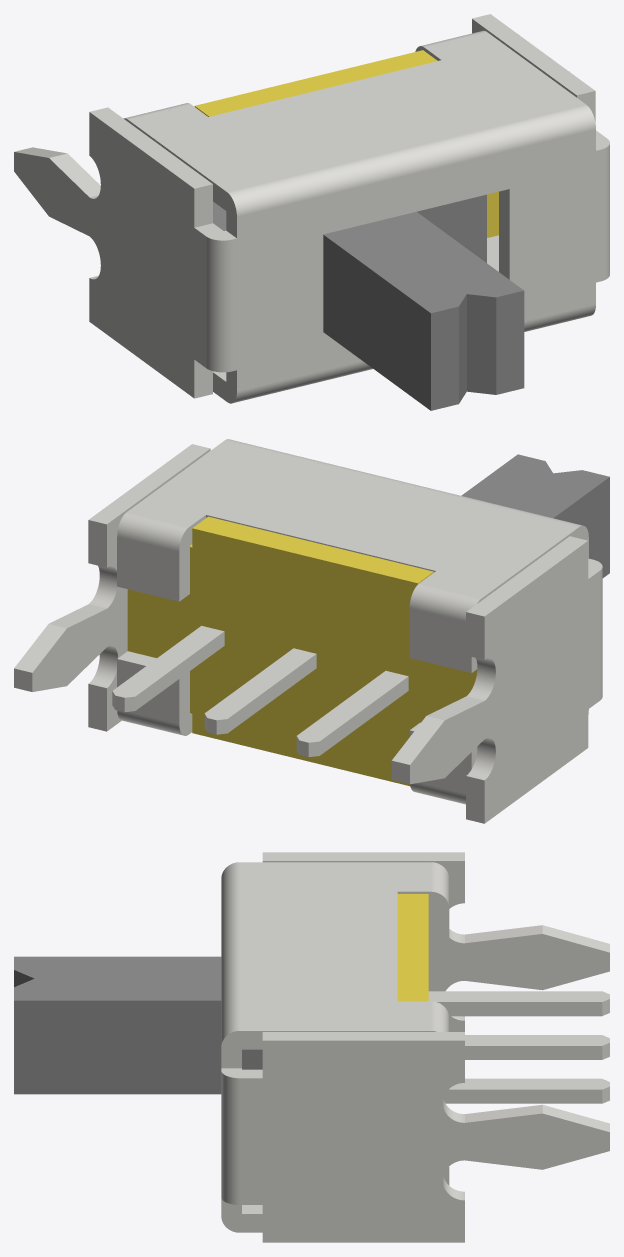
Rendered from SW_Slide_SPDT_Straight_CK_OS102011MS2Q.glb.
3 views of the same model, one above another, from view 1: azimuth 30°, elevation 25°; view 2: azimuth 150°, elevation 25°; view 3: azimuth 270°, elevation 25° (orthographic). The views are drawn at different scales.
Parts seen in each view (by area): view 1: Shape_IndexedFaceSet.007, Shape_IndexedFaceSet.079, Shape_IndexedFaceSet.031, Shape_IndexedFaceSet.217, Shape_IndexedFaceSet.041, Shape_IndexedFaceSet.204, Shape_IndexedFaceSet.034, Shape_IndexedFaceSet.072, Shape_IndexedFaceSet.002, Shape_IndexedFaceSet.164, Shape_IndexedFaceSet.069, Shape_IndexedFaceSet.214 (+18 smaller); view 2: Shape_IndexedFaceSet.174, Shape_IndexedFaceSet.079, Shape_IndexedFaceSet.031, Shape_IndexedFaceSet.204, Shape_IndexedFaceSet.072, Shape_IndexedFaceSet.034, Shape_IndexedFaceSet.164, Shape_IndexedFaceSet.069, Shape_IndexedFaceSet.099, Shape_IndexedFaceSet.159, Shape_IndexedFaceSet.160, Shape_IndexedFaceSet.217 (+34 smaller); view 3: Shape_IndexedFaceSet.079, Shape_IndexedFaceSet.133, Shape_IndexedFaceSet.212, Shape_IndexedFaceSet.204, Shape_IndexedFaceSet.136, Shape_IndexedFaceSet.134, Shape_IndexedFaceSet.073, Shape_IndexedFaceSet.161, Shape_IndexedFaceSet.164, Shape_IndexedFaceSet.041, Shape_IndexedFaceSet.093, Shape_IndexedFaceSet.044 (+20 smaller).
Part boxes in pixels (left/top/right/bottom): Shape_IndexedFaceSet.007: left=234, top=131, right=598, bottom=389; Shape_IndexedFaceSet.079: left=146, top=45, right=584, bottom=191; Shape_IndexedFaceSet.031: left=89, top=151, right=194, bottom=358; Shape_IndexedFaceSet.217: left=323, top=235, right=430, bottom=410; Shape_IndexedFaceSet.041: left=227, top=104, right=595, bottom=216; Shape_IndexedFaceSet.204: left=323, top=211, right=523, bottom=313; Shape_IndexedFaceSet.034: left=89, top=112, right=194, bottom=227; Shape_IndexedFaceSet.072: left=89, top=283, right=194, bottom=397; Shape_IndexedFaceSet.002: left=206, top=237, right=232, bottom=372; Shape_IndexedFaceSet.164: left=195, top=50, right=437, bottom=116; Shape_IndexedFaceSet.069: left=14, top=152, right=89, bottom=235; Shape_IndexedFaceSet.214: left=467, top=294, right=496, bottom=394; Shape_IndexedFaceSet.174: left=127, top=528, right=477, bottom=786; Shape_IndexedFaceSet.079: left=144, top=441, right=577, bottom=585; Shape_IndexedFaceSet.031: left=484, top=579, right=588, bottom=784; Shape_IndexedFaceSet.204: left=461, top=454, right=609, bottom=518; Shape_IndexedFaceSet.072: left=484, top=709, right=588, bottom=823; Shape_IndexedFaceSet.034: left=484, top=541, right=588, bottom=654; Shape_IndexedFaceSet.164: left=192, top=516, right=433, bottom=583; Shape_IndexedFaceSet.069: left=410, top=701, right=484, bottom=784; Shape_IndexedFaceSet.099: left=32, top=609, right=106, bottom=691; Shape_IndexedFaceSet.159: left=117, top=538, right=179, bottom=601; Shape_IndexedFaceSet.160: left=409, top=610, right=471, bottom=672; Shape_IndexedFaceSet.217: left=554, top=477, right=609, bottom=577; Shape_IndexedFaceSet.079: left=242, top=862, right=397, bottom=1030; Shape_IndexedFaceSet.133: left=262, top=1078, right=464, bottom=1204; Shape_IndexedFaceSet.212: left=14, top=1000, right=247, bottom=1094; Shape_IndexedFaceSet.204: left=14, top=956, right=221, bottom=1000; Shape_IndexedFaceSet.136: left=262, top=1040, right=464, bottom=1078; Shape_IndexedFaceSet.134: left=262, top=1205, right=464, bottom=1242; Shape_IndexedFaceSet.073: left=465, top=934, right=609, bottom=990; Shape_IndexedFaceSet.161: left=465, top=1113, right=609, bottom=1169; Shape_IndexedFaceSet.164: left=397, top=894, right=428, bottom=1001; Shape_IndexedFaceSet.041: left=221, top=862, right=239, bottom=1044; Shape_IndexedFaceSet.093: left=242, top=1078, right=262, bottom=1204; Shape_IndexedFaceSet.044: left=221, top=1072, right=239, bottom=1204.
Bounding box in the file's own units: 3.39 × 1.69 × 4.53.
